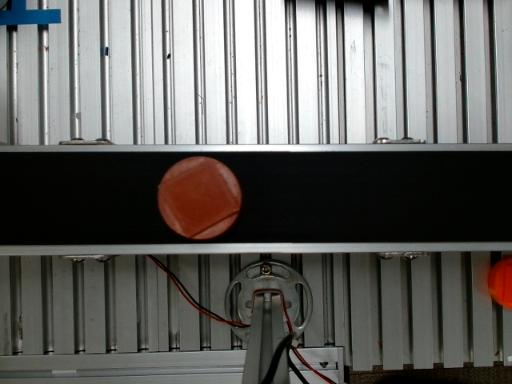Brown_Waper: (158, 157, 242, 239)
Square: (159, 159, 241, 239)
